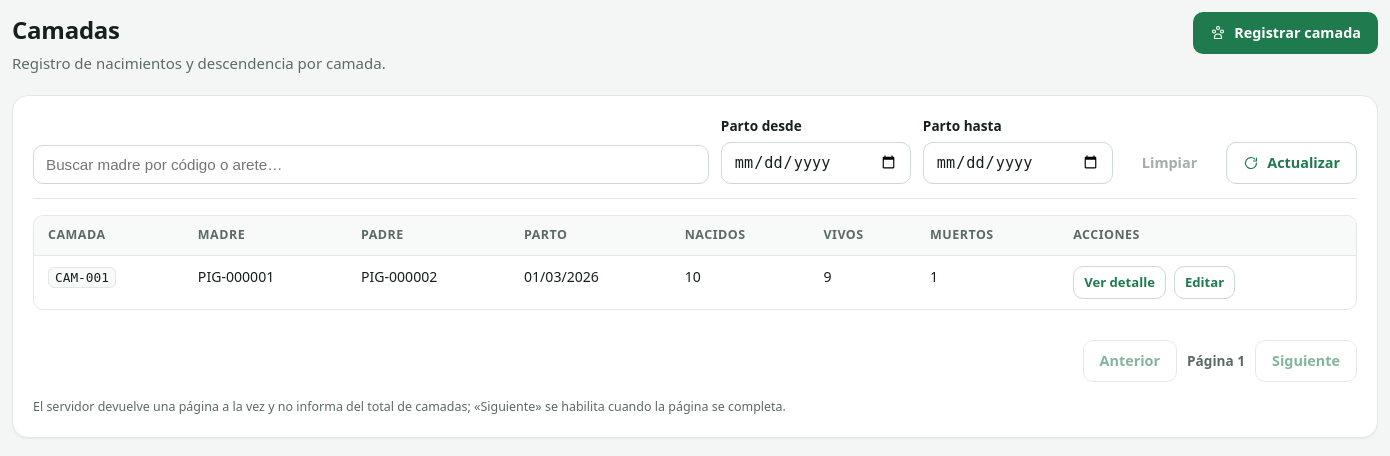
Test: LittersPage: filtros y paginacion › avisa cuando el texto buscado no coincide con ninguna madre
expect the text "CAM-001" is shown: met, box [48,267,116,288]
Type "PIG-999999" into the search field named "Buscar por madre" at (371, 164), box [33,145,709,184]
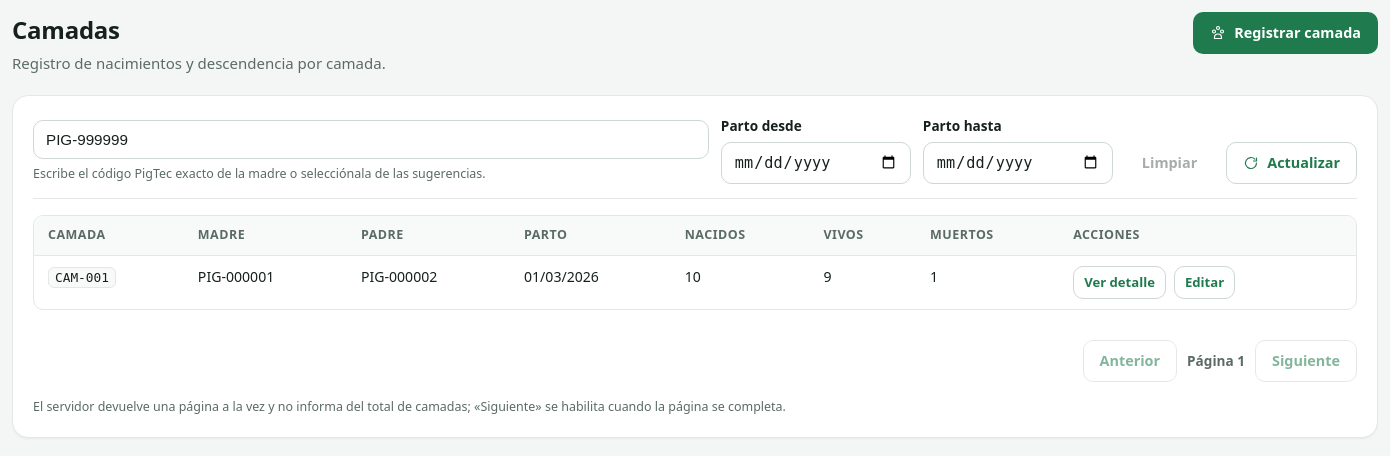
expect the text "Escribe el código PigTec exacto de la madre o selecciónala de las sugerencias." is shown: met, box [33,165,486,182]
